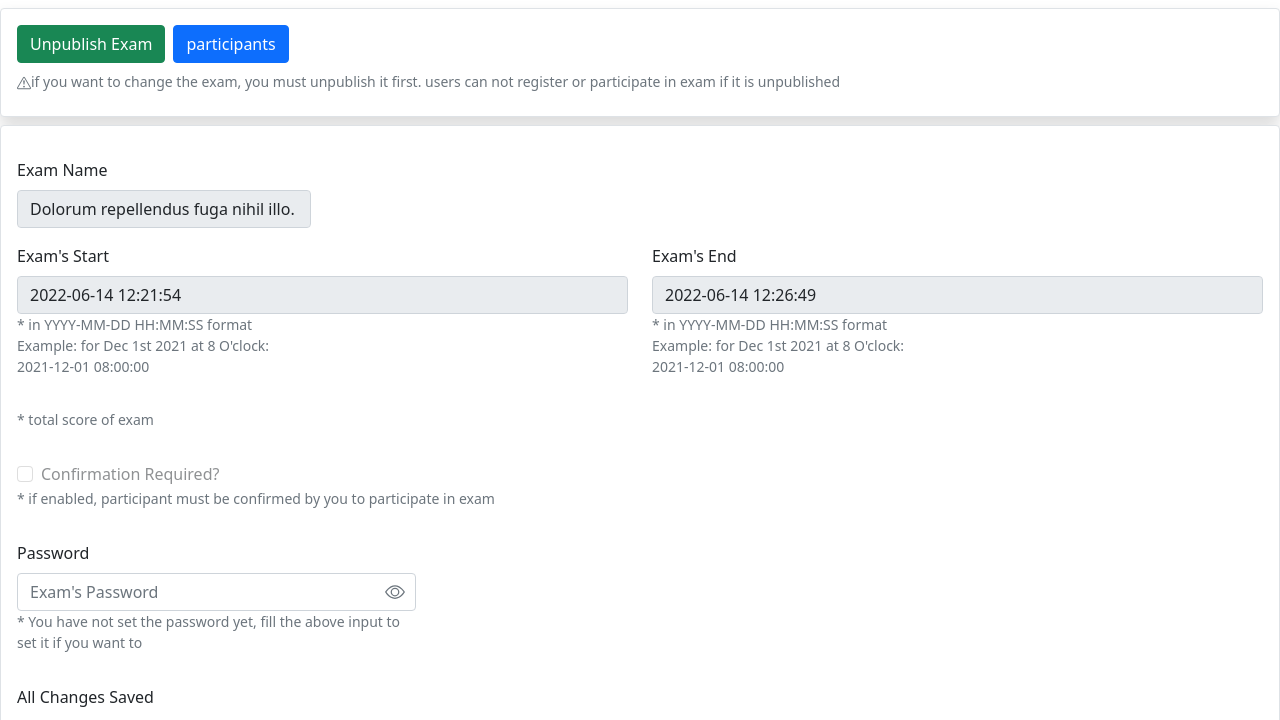
if exam is published, user will see unpublish button and he can unpublish that
The image size is (1280, 720).
Step 1. Click the button "Unpublish Exam" → (91, 44), box [17,25,165,63]
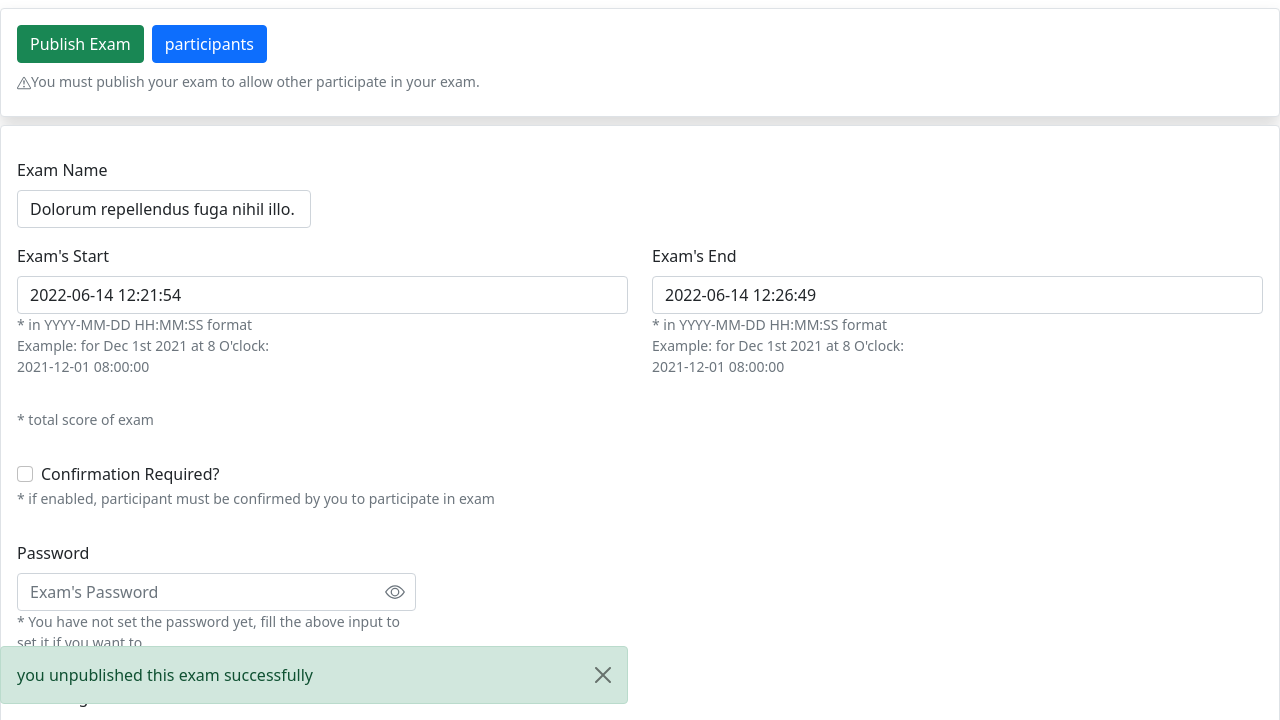
Expected: the text "you unpublished this exam successfully" is shown, [0,646,628,704]
